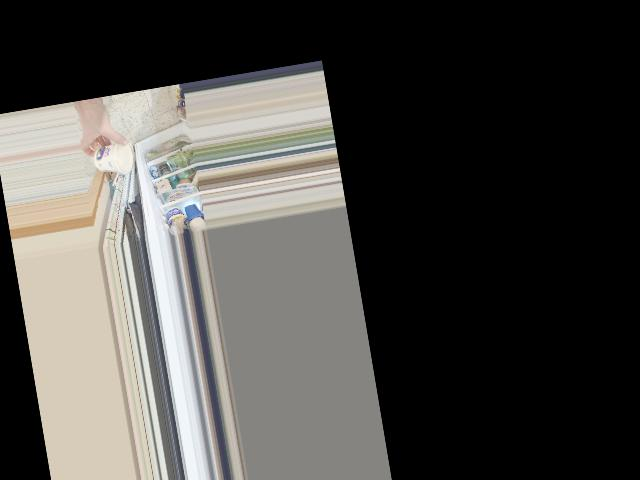cotage: (92, 139, 135, 175)
